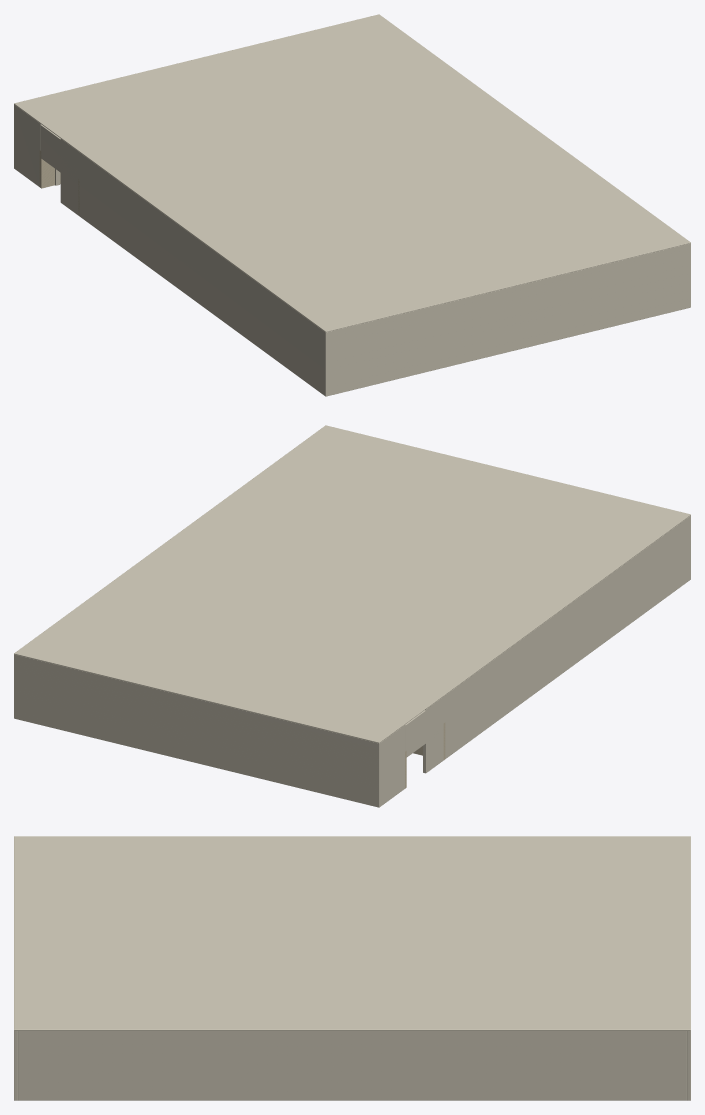
Rendered from WP11_movement_studio_runtime_names001.glb.
3 renders of one model, top to bottom at view 1: azimuth 30°, elevation 25°; view 2: azimuth 150°, elevation 25°; view 3: azimuth 270°, elevation 25°, orthographic. The views are drawn at different scales.
Visible parts, largest first — view 1: WP11N_0578, WP11N_0576, WP11N_0430, WP11N_0431, WP11N_0325; view 2: WP11N_0578, WP11N_0577, WP11N_0430, WP11N_0431, WP11N_0325; view 3: WP11N_0578, WP11N_0579.
Boxes of the visible parts, x1,y1,x2,y2 form: WP11N_0578: [14, 14, 690, 332]; WP11N_0576: [324, 243, 690, 396]; WP11N_0430: [60, 139, 324, 395]; WP11N_0431: [15, 105, 41, 186]; WP11N_0325: [40, 124, 78, 177]; WP11N_0578: [14, 425, 690, 743]; WP11N_0577: [14, 654, 380, 807]; WP11N_0430: [423, 516, 689, 773]; WP11N_0431: [380, 724, 405, 806]; WP11N_0325: [405, 697, 444, 757]; WP11N_0578: [14, 836, 690, 1030]; WP11N_0579: [18, 1031, 686, 1100].
Size of the model in its own units: 46 by 7.85 by 68.
32 materials, 29 textured.
